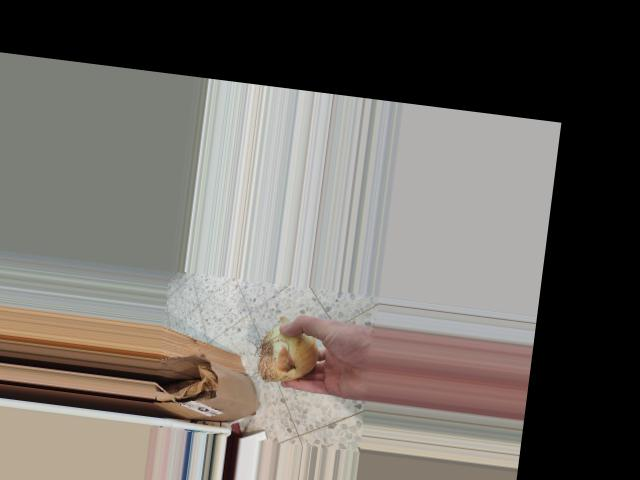onion: (253, 313, 326, 389)
